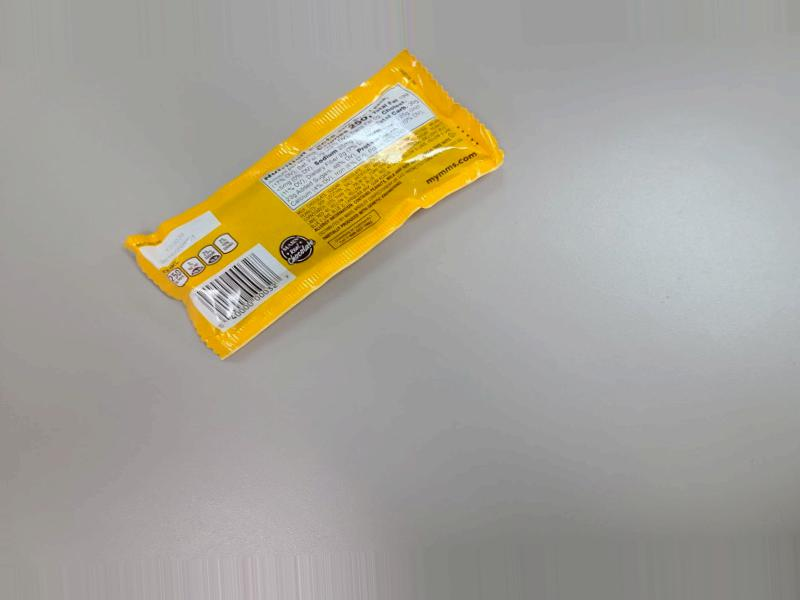m&m: (149, 31, 503, 378)
